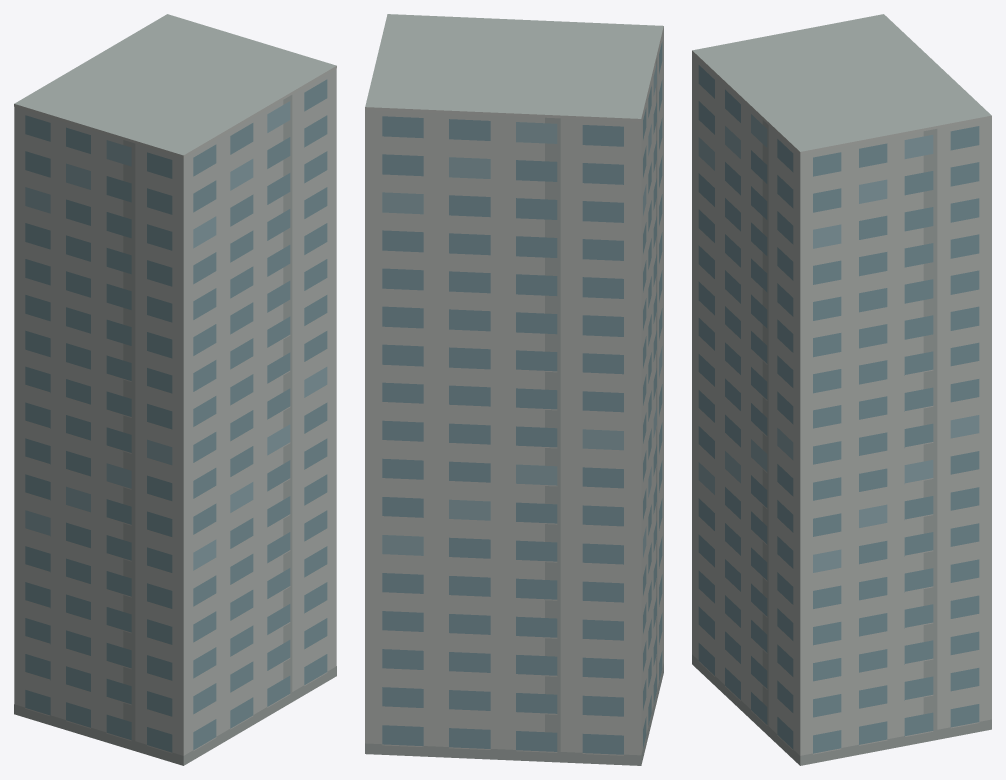
File: residential-00e2391b-3e31-439b-8c12-c91bfc986cc0.glb
3 views of the same model, side by side, from view 1: azimuth 30°, elevation 25°; view 2: azimuth 150°, elevation 25°; view 3: azimuth 270°, elevation 25° (orthographic). The views are drawn at different scales.
Parts seen in each view (by area): view 1: residential-00e2391b-3e31-439b-8c12-c91bfc986cc0.tmp; view 2: residential-00e2391b-3e31-439b-8c12-c91bfc986cc0.tmp; view 3: residential-00e2391b-3e31-439b-8c12-c91bfc986cc0.tmp.
Part boxes in pixels (box(x1,y1,x2,y2)): residential-00e2391b-3e31-439b-8c12-c91bfc986cc0.tmp: box(14, 14, 336, 765); residential-00e2391b-3e31-439b-8c12-c91bfc986cc0.tmp: box(365, 14, 663, 765); residential-00e2391b-3e31-439b-8c12-c91bfc986cc0.tmp: box(692, 14, 991, 765).
Size of the model in its own units: 26.03 by 54 by 23.9.
